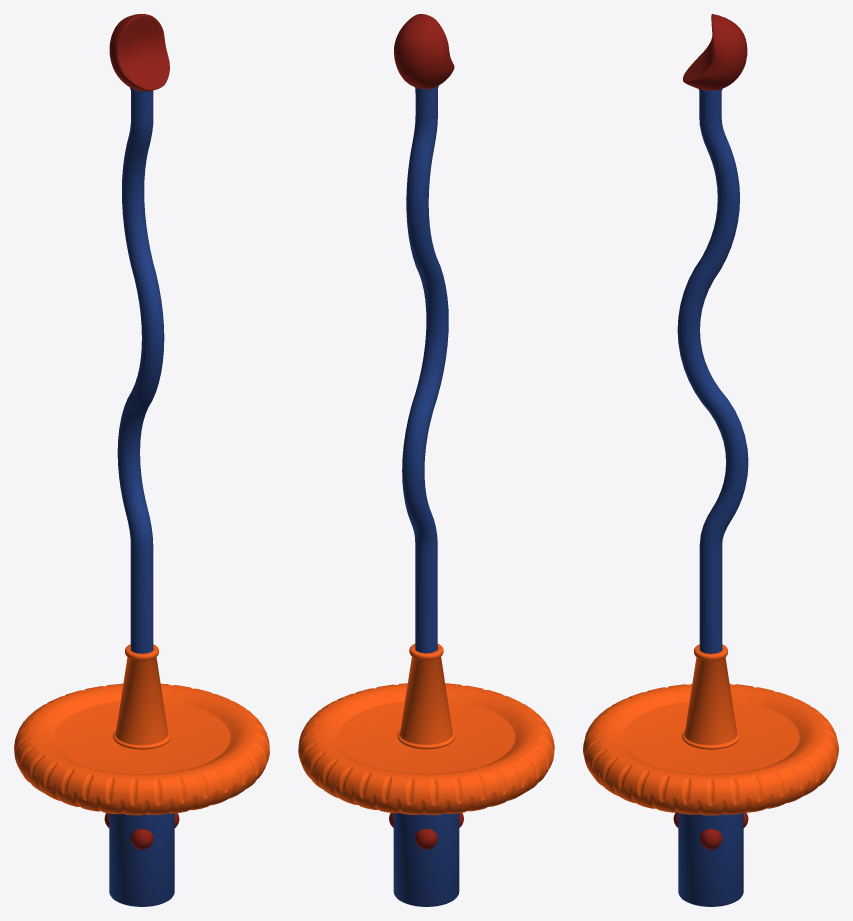
The model's file is SpinnerPole.fbx.
3 renders of one model, left to right at view 1: azimuth 30°, elevation 25°; view 2: azimuth 150°, elevation 25°; view 3: azimuth 270°, elevation 25°, orthographic.
Visible parts, largest first — view 1: SpinnerPole_Disc, SpinnerPole_Pole; view 2: SpinnerPole_Disc, SpinnerPole_Pole; view 3: SpinnerPole_Disc, SpinnerPole_Pole.
Boxes of the visible parts, x1=… form: SpinnerPole_Disc: x1=14, y1=644, x2=269, y2=815; SpinnerPole_Pole: x1=104, y1=14, x2=179, y2=906; SpinnerPole_Disc: x1=298, y1=644, x2=554, y2=815; SpinnerPole_Pole: x1=389, y1=14, x2=463, y2=906; SpinnerPole_Disc: x1=583, y1=644, x2=838, y2=815; SpinnerPole_Pole: x1=673, y1=14, x2=748, y2=906.
Bounding box in the file's own units: 0.4578 × 1.73 × 0.4578.
